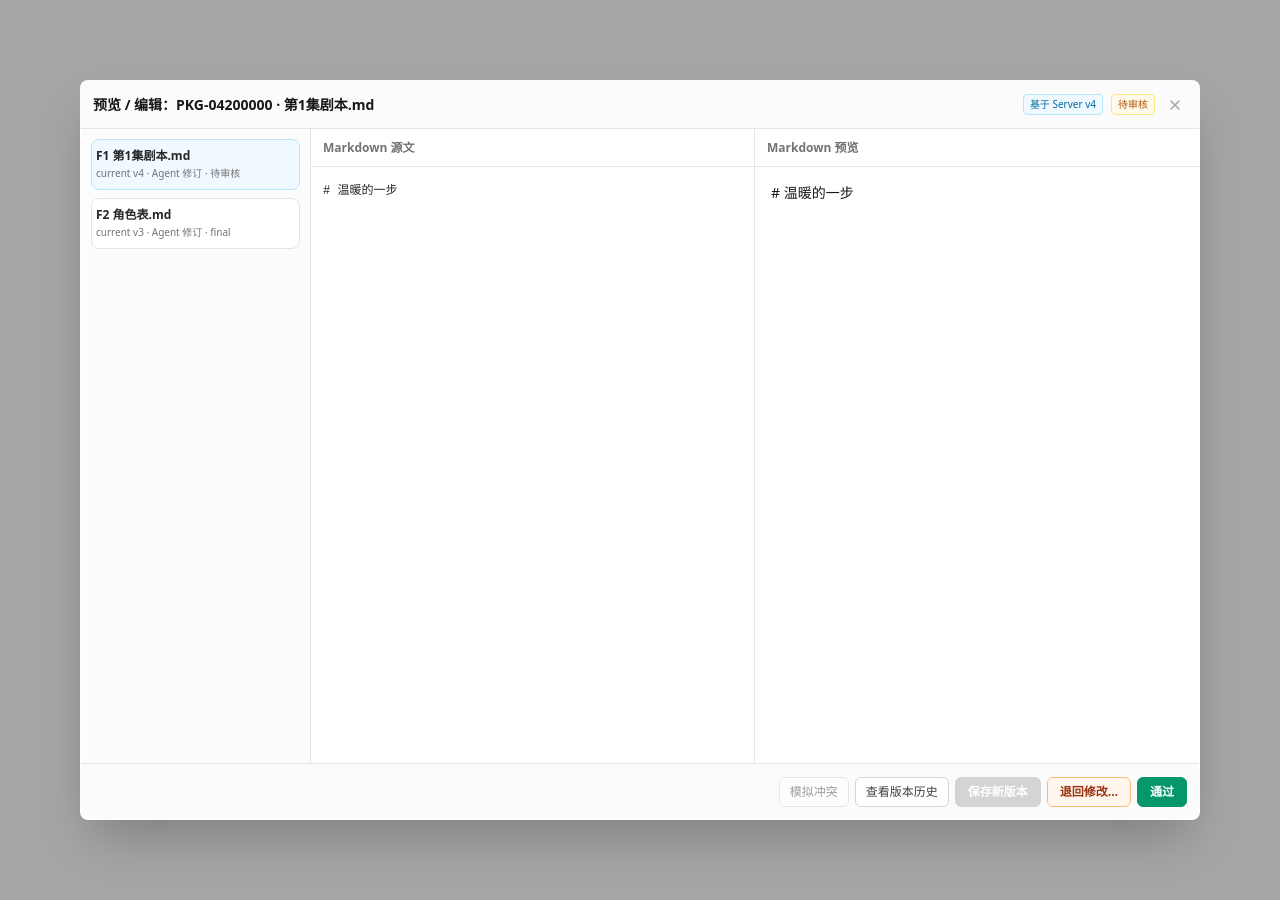
Test: OutputPackagePreviewModal 原型收敛 › 原讨论串上下文加载失败时不提交不可逆的 delivery 退回
Expected: the text box named "Markdown 源文" is shown, [311, 167, 754, 763]
Click the button "退回修改…" at (1089, 792), box [1047, 776, 1131, 806]
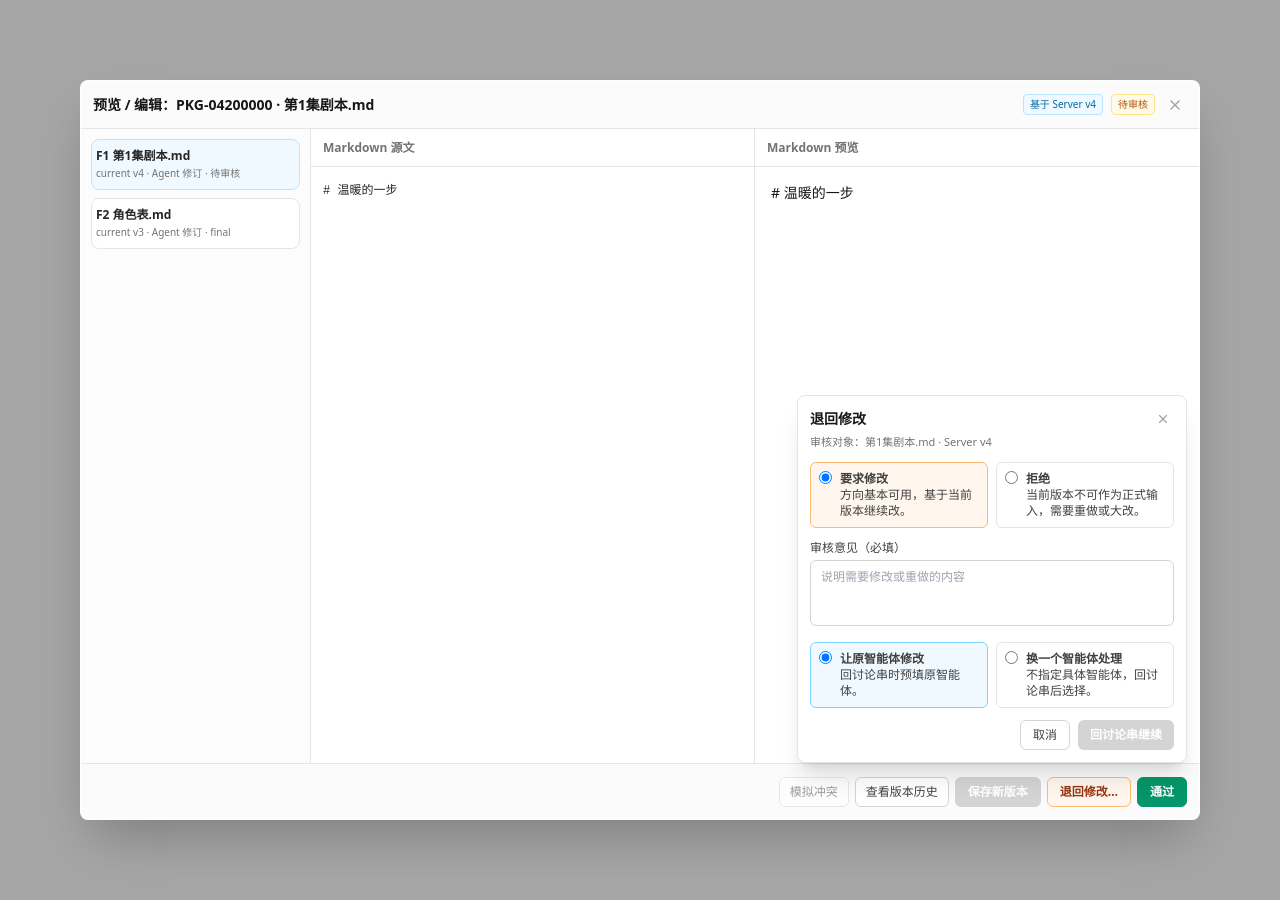
Type "需要补充依据" into the text box labelled "审核意见（必填）" at (992, 593), box [810, 560, 1174, 626]
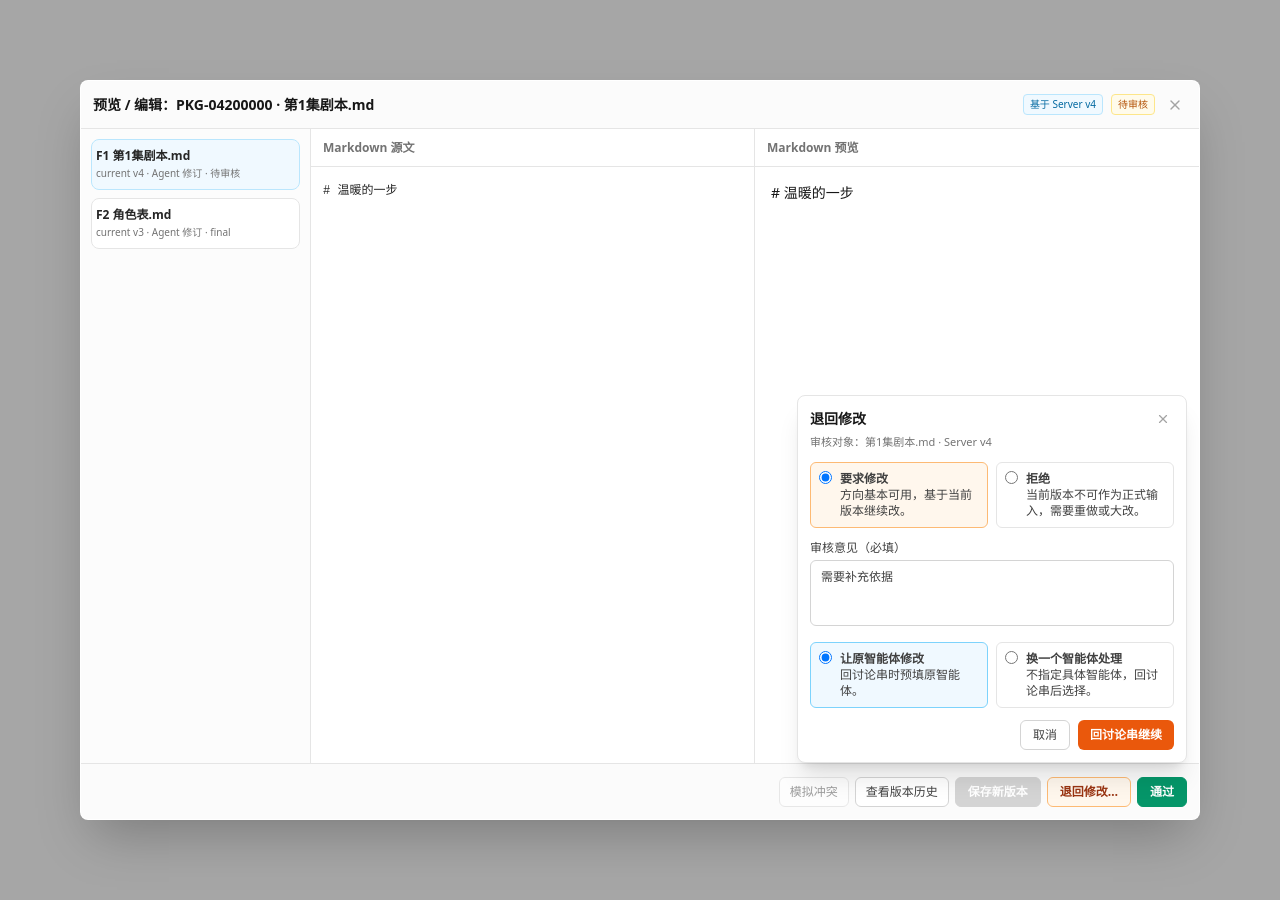
Click the button "回讨论串继续" at (1126, 735), box [1078, 720, 1174, 750]
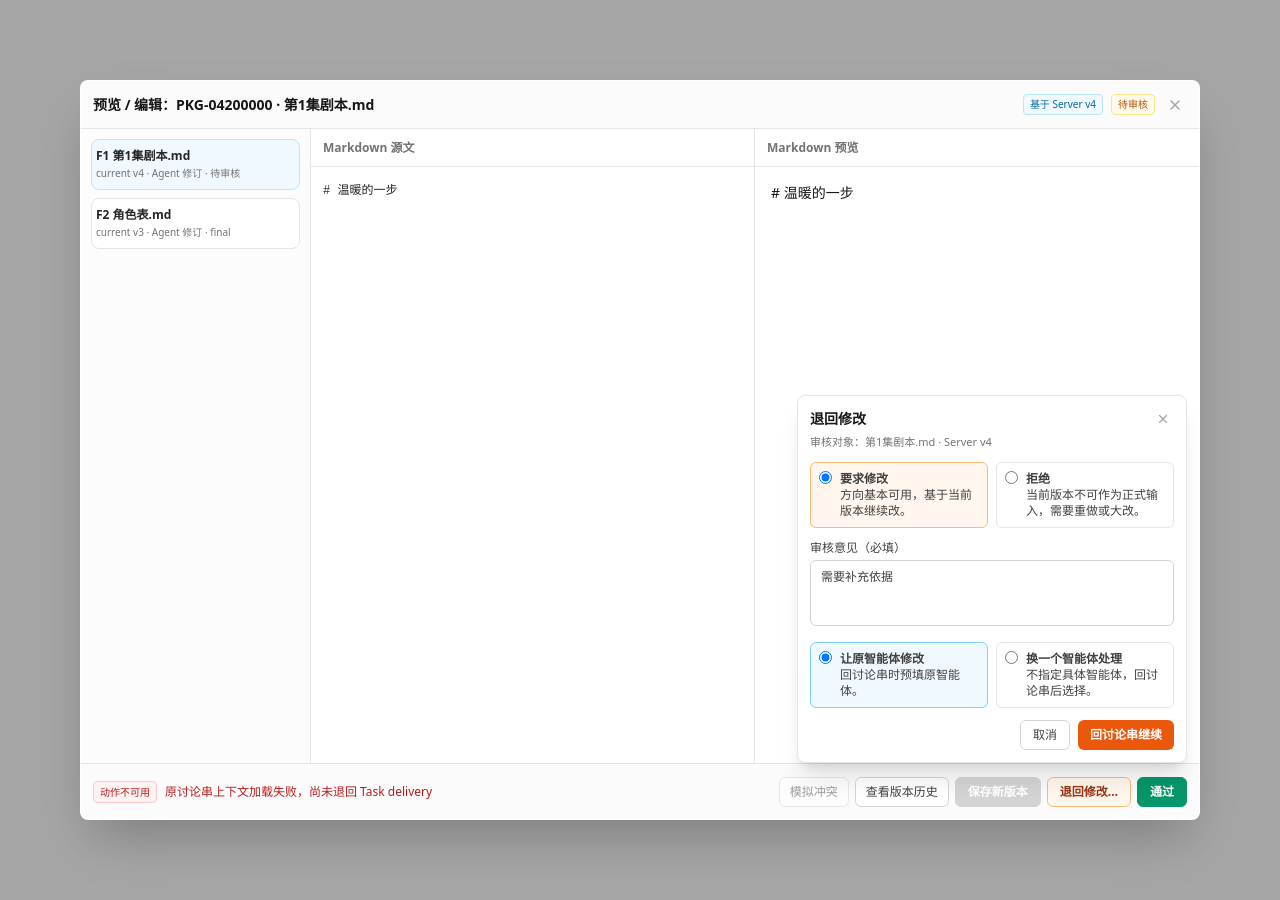
Expected: the message reads "原讨论串上下文加载失败，尚未退回 Task delivery", [165, 782, 432, 800]
